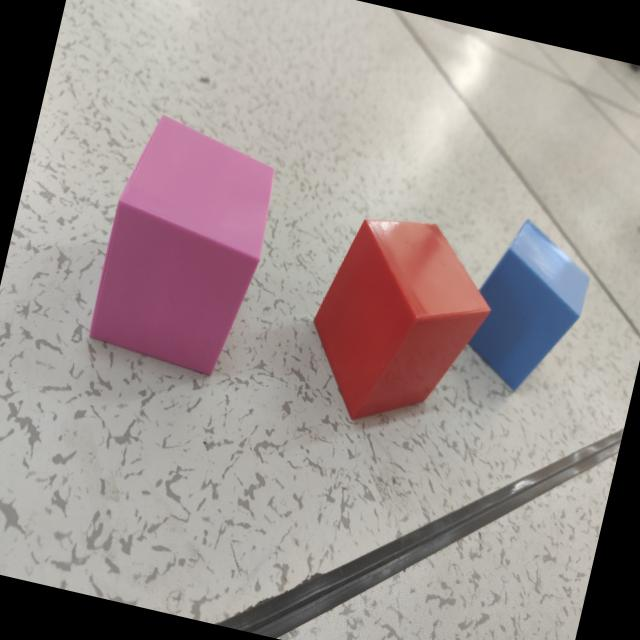blue: (468, 220, 590, 393)
pink: (87, 117, 274, 377)
red: (312, 220, 490, 422)
